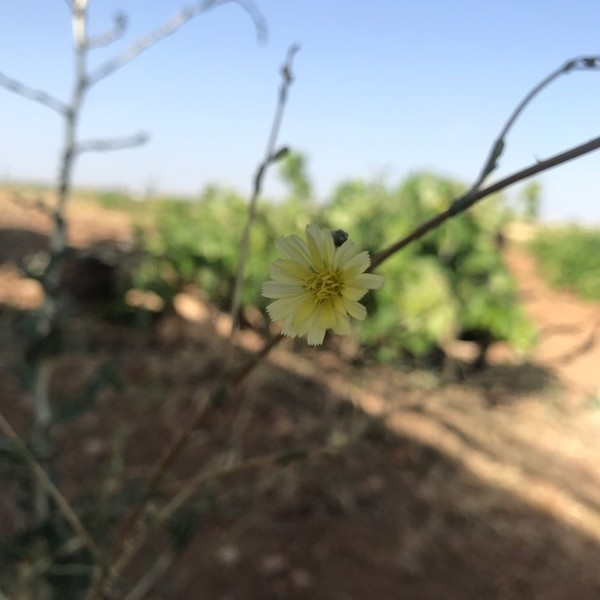obstacle: (253, 207, 379, 366)
